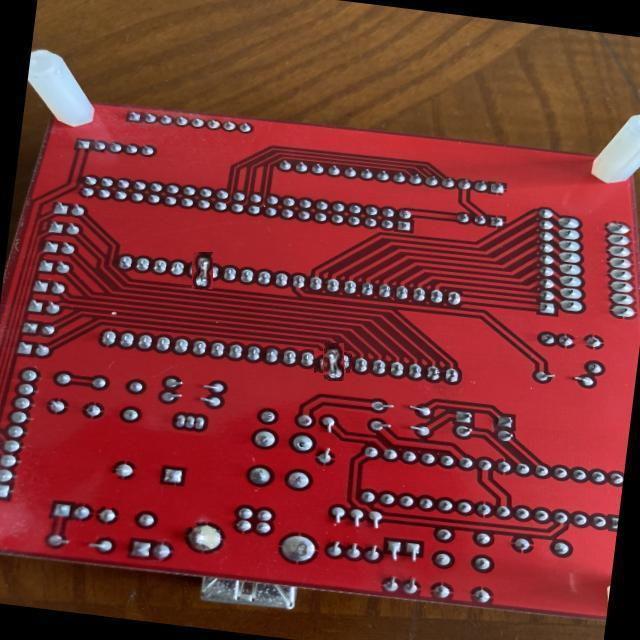damged: (318, 348, 348, 378), (188, 256, 217, 286)
